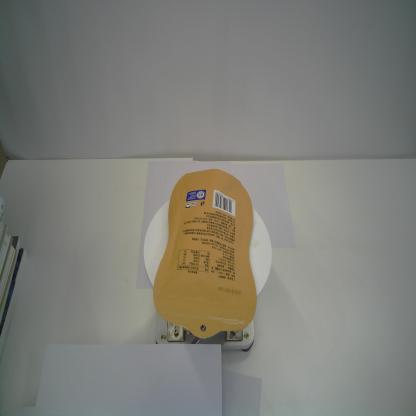Dried Fruit: (151, 167, 257, 340)
